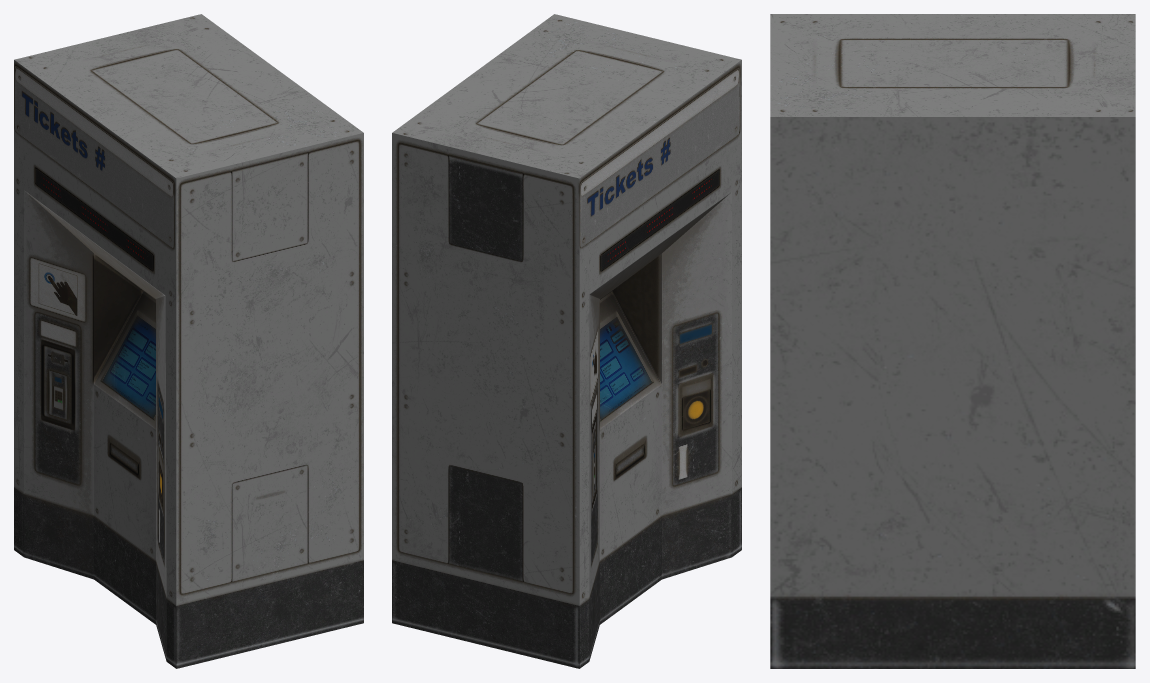
Rendered from SM_TicketMachine.FBX.
3 views of the same model, side by side, from view 1: azimuth 30°, elevation 25°; view 2: azimuth 150°, elevation 25°; view 3: azimuth 270°, elevation 25° (orthographic). The views are drawn at different scales.
Visible parts, largest first — view 1: SM_TicketMachine; view 2: SM_TicketMachine; view 3: SM_TicketMachine.
Part boxes in pixels (left/top/right/bottom): SM_TicketMachine: left=14, top=14, right=363, bottom=668; SM_TicketMachine: left=392, top=14, right=741, bottom=668; SM_TicketMachine: left=770, top=14, right=1135, bottom=668.
Size of the model in its own units: 100 by 150 by 250.
